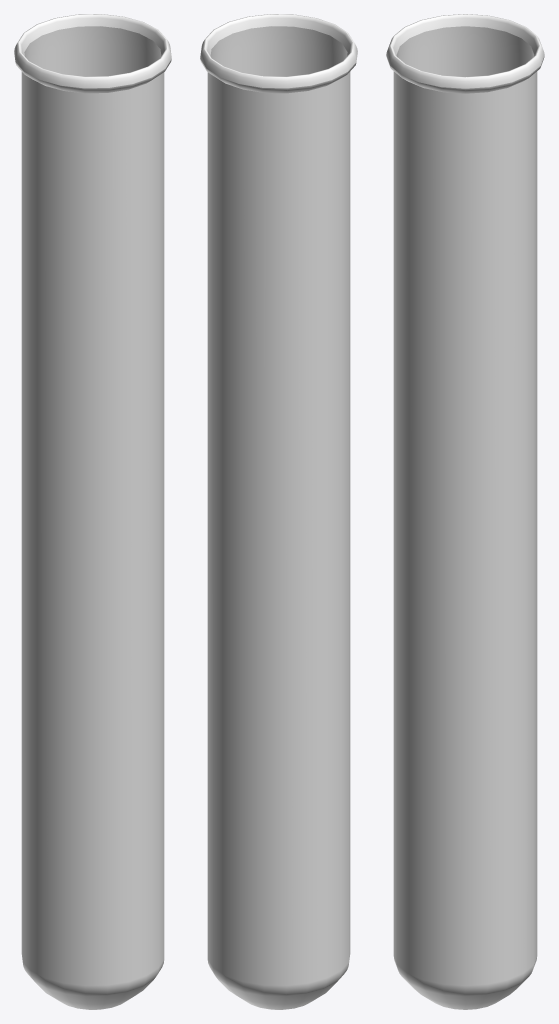
Rendered from Glass_Lab_test_tube.fbx.
3 views of the same model, side by side, from view 1: azimuth 30°, elevation 25°; view 2: azimuth 150°, elevation 25°; view 3: azimuth 270°, elevation 25° (orthographic).
Visible parts, largest first — view 1: Glass_Lab_test_tube4; view 2: Glass_Lab_test_tube4; view 3: Glass_Lab_test_tube4.
Boxes of the visible parts, x1,y1,x2,y2 form: Glass_Lab_test_tube4: (14,14,171,1009); Glass_Lab_test_tube4: (200,14,357,1009); Glass_Lab_test_tube4: (386,14,544,1009).
Size of the model in its own units: 3.66 by 24.41 by 3.66.
